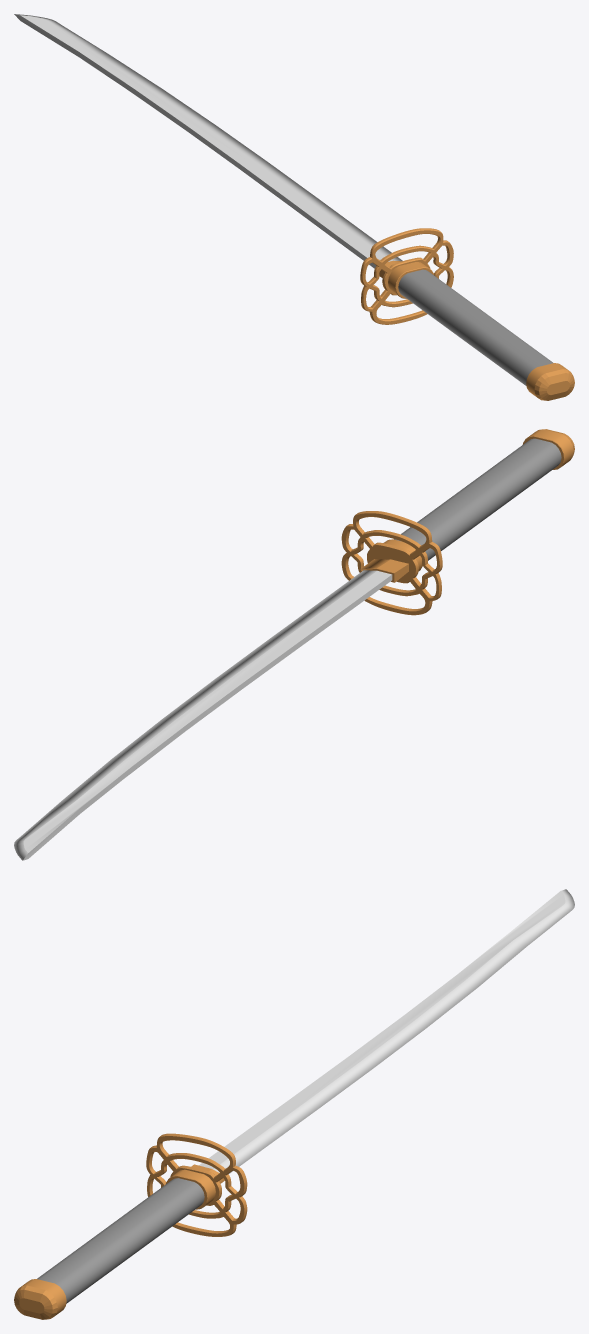
File: katana.obj
The picture shows the model from 3 angles, top to bottom: view 1: azimuth 30°, elevation 25°; view 2: azimuth 150°, elevation 25°; view 3: azimuth 330°, elevation 25°; orthographic projection. The views are drawn at different scales.
Parts seen in each view (by area): view 1: blade, handgrip1, tsuba, handgrip2; view 2: blade, handgrip1, tsuba, handgrip2, blade_base; view 3: blade, handgrip1, tsuba, handgrip2.
Part boxes in pixels (<box>): blade: <box>14,14,402,268</box>; handgrip1: <box>398,269,553,385</box>; tsuba: <box>360,228,453,324</box>; handgrip2: <box>388,262,574,400</box>; blade: <box>14,570,392,860</box>; handgrip1: <box>394,438,561,560</box>; tsuba: <box>341,511,442,615</box>; handgrip2: <box>383,429,574,570</box>; blade_base: <box>360,559,408,582</box>; blade: <box>199,889,574,1173</box>; handgrip1: <box>37,1178,204,1303</box>; tsuba: <box>146,1133,247,1236</box>; handgrip2: <box>14,1169,215,1319</box>.
Size of the model in its own units: 26.62 by 24.64 by 260.
